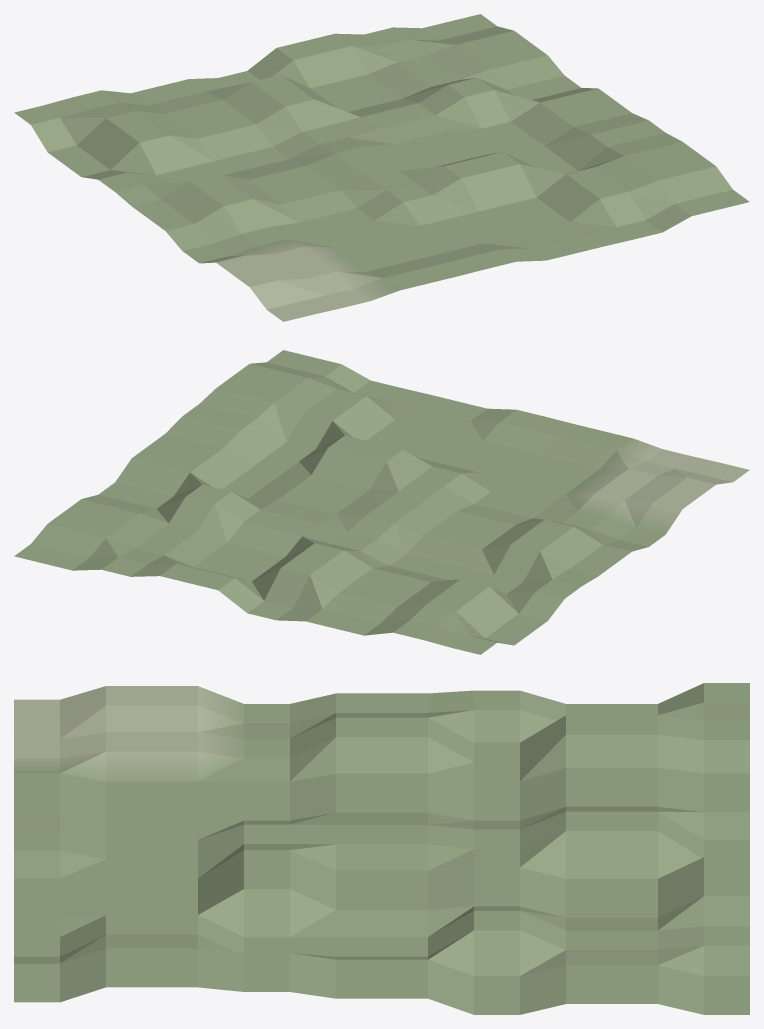
The picture shows the model from 3 angles, top to bottom: view 1: azimuth 30°, elevation 25°; view 2: azimuth 150°, elevation 25°; view 3: azimuth 270°, elevation 25°; orthographic projection. The views are drawn at different scales.
Bounding box in the file's own units: 32 × 1.38 × 32.
